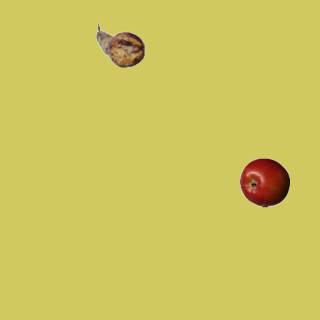Apple Braeburn: (239, 157, 289, 207)
Pear Abate: (95, 20, 145, 70)
